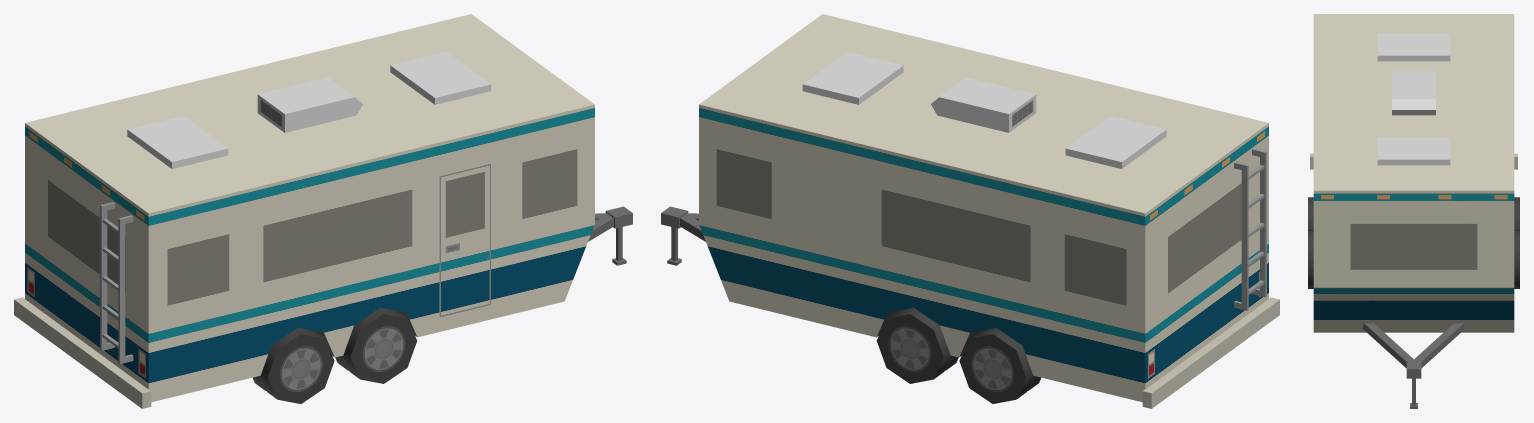
The model's file is west_che02.FBX.
3 views of the same model, side by side, from view 1: azimuth 30°, elevation 25°; view 2: azimuth 150°, elevation 25°; view 3: azimuth 270°, elevation 25° (orthographic). The views are drawn at different scales.
Parts seen in each view (by area): view 1: west_che02; view 2: west_che02; view 3: west_che02.
Boxes of the visible parts, <box> form: west_che02: <box>14,14,632,408</box>; west_che02: <box>661,14,1279,408</box>; west_che02: <box>1308,14,1519,408</box>.
Size of the model in its own units: 2542 by 1066 by 1036.
